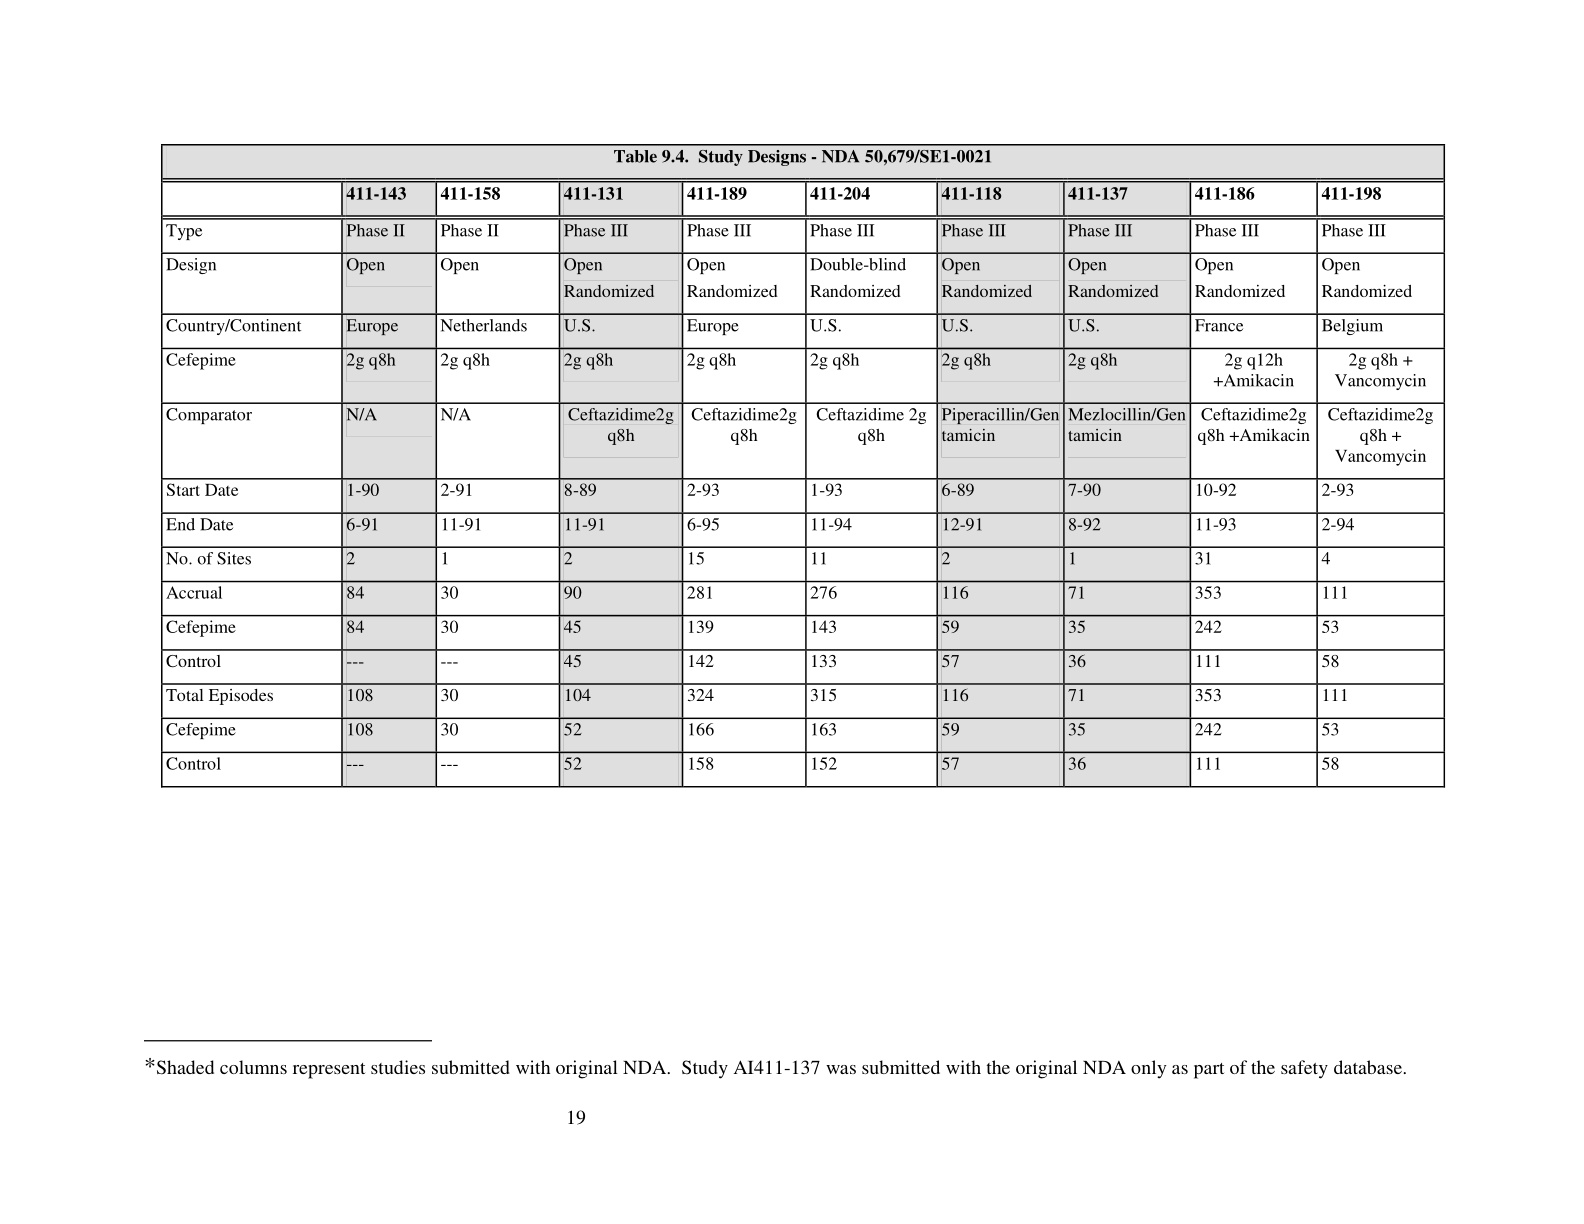merged_cells: (159, 143, 1446, 789)
